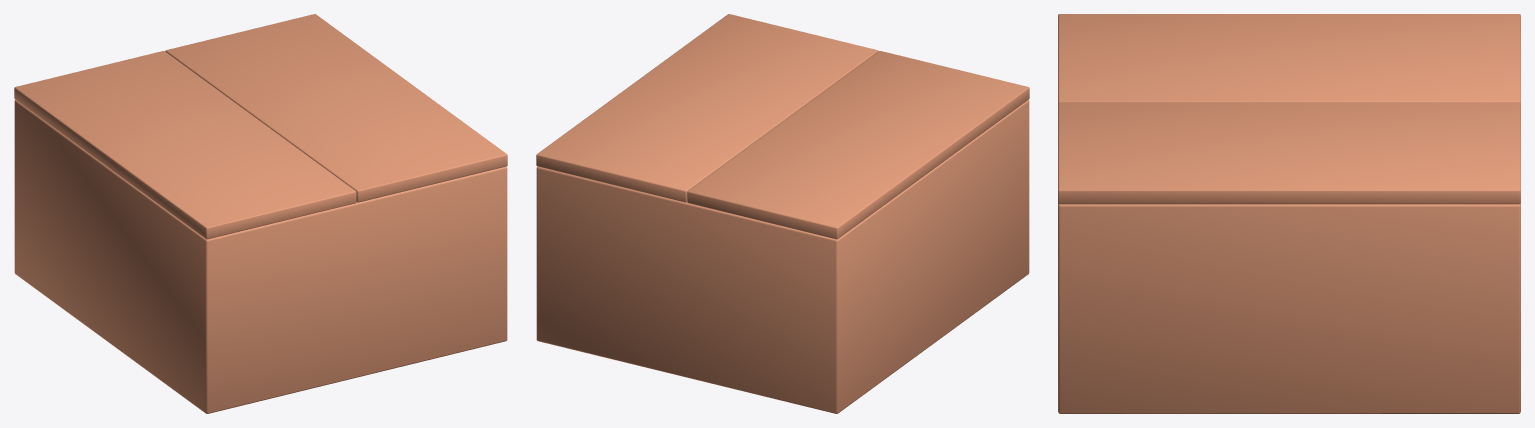
Rendered from SM_Cardboard_Closed_HIGHPOLY.gltf.
3 views of the same model, side by side, from view 1: azimuth 30°, elevation 25°; view 2: azimuth 150°, elevation 25°; view 3: azimuth 270°, elevation 25° (orthographic). The views are drawn at different scales.
Parts seen in each view (by area): view 1: SM_Cardboard_Closed.005, SM_Cardboard_Closed.006; view 2: SM_Cardboard_Closed.005, SM_Cardboard_Closed.006; view 3: SM_Cardboard_Closed.005, SM_Cardboard_Closed.006.
Boxes of the visible parts, x1,y1,x2,y2 form: SM_Cardboard_Closed.005: (14,100,507,413); SM_Cardboard_Closed.006: (14,14,507,239); SM_Cardboard_Closed.005: (536,100,1029,413); SM_Cardboard_Closed.006: (536,14,1029,239); SM_Cardboard_Closed.005: (1058,203,1520,413); SM_Cardboard_Closed.006: (1058,14,1520,204).
Bounding box in the file's own units: 6.33 × 3.75 × 7.
